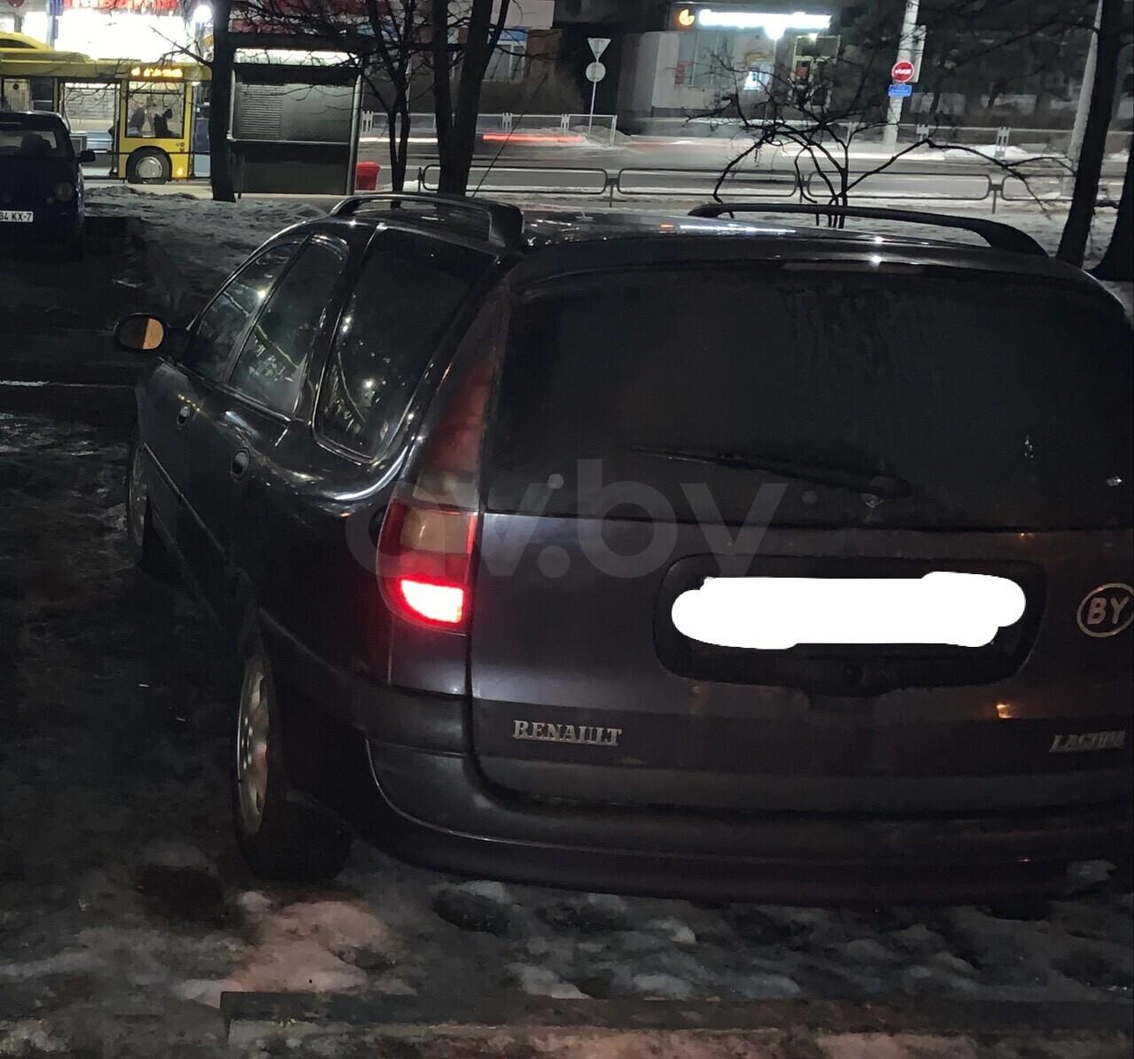Lahuna_1993-1999: (111, 192, 1134, 910)
